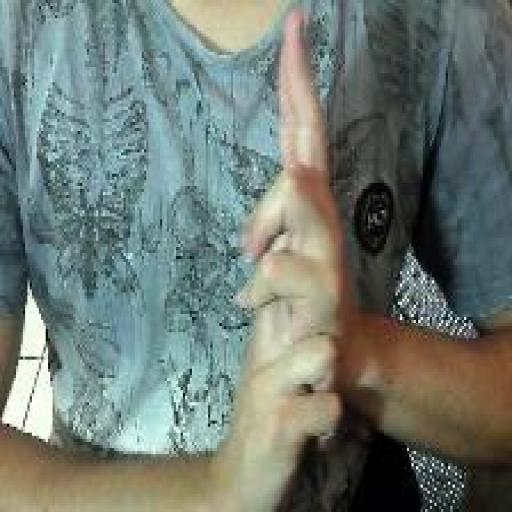Hitsuji -ram-: (233, 4, 350, 504)
